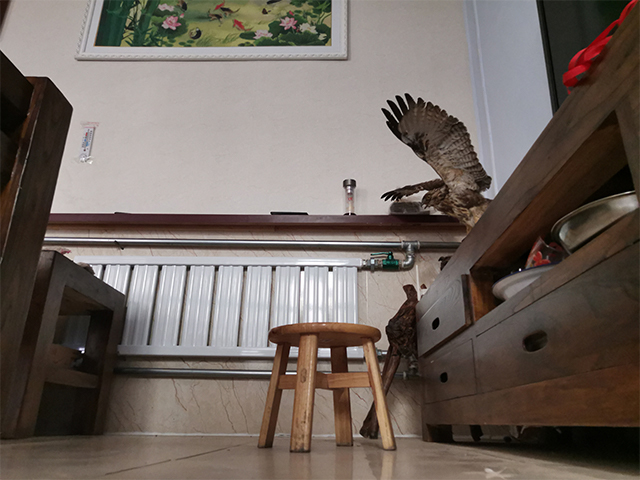cabinet: (407, 1, 640, 446)
stool: (256, 319, 400, 455)
